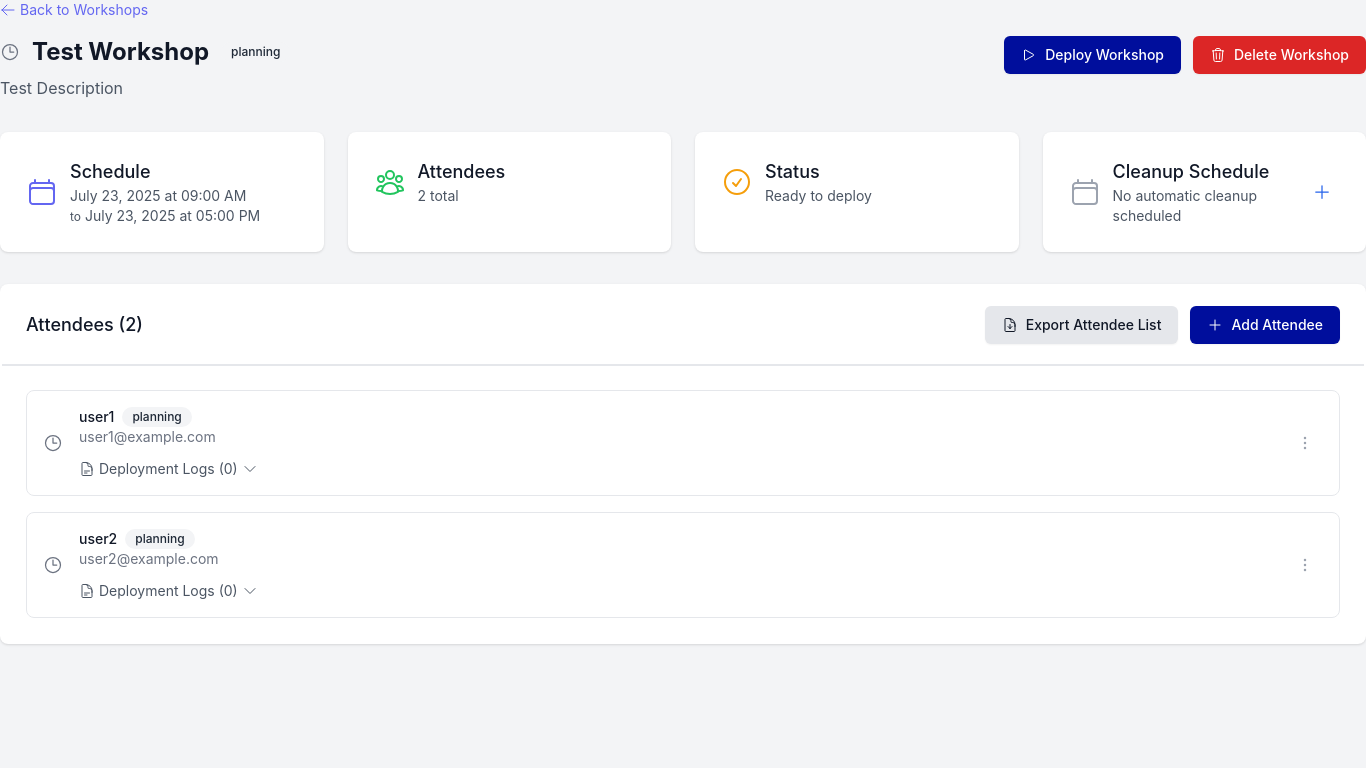
Scenario: WorkshopDetail ConfirmDialog Integration › Deploy Workshop Confirmation › should close dialog after cancelling
Expected: the heading "Test Workshop" is shown, [32,36,209,68]
Click Deploy Workshop button
Click the button "Deploy Workshop": (1093, 55) [1004,36,1181,74]
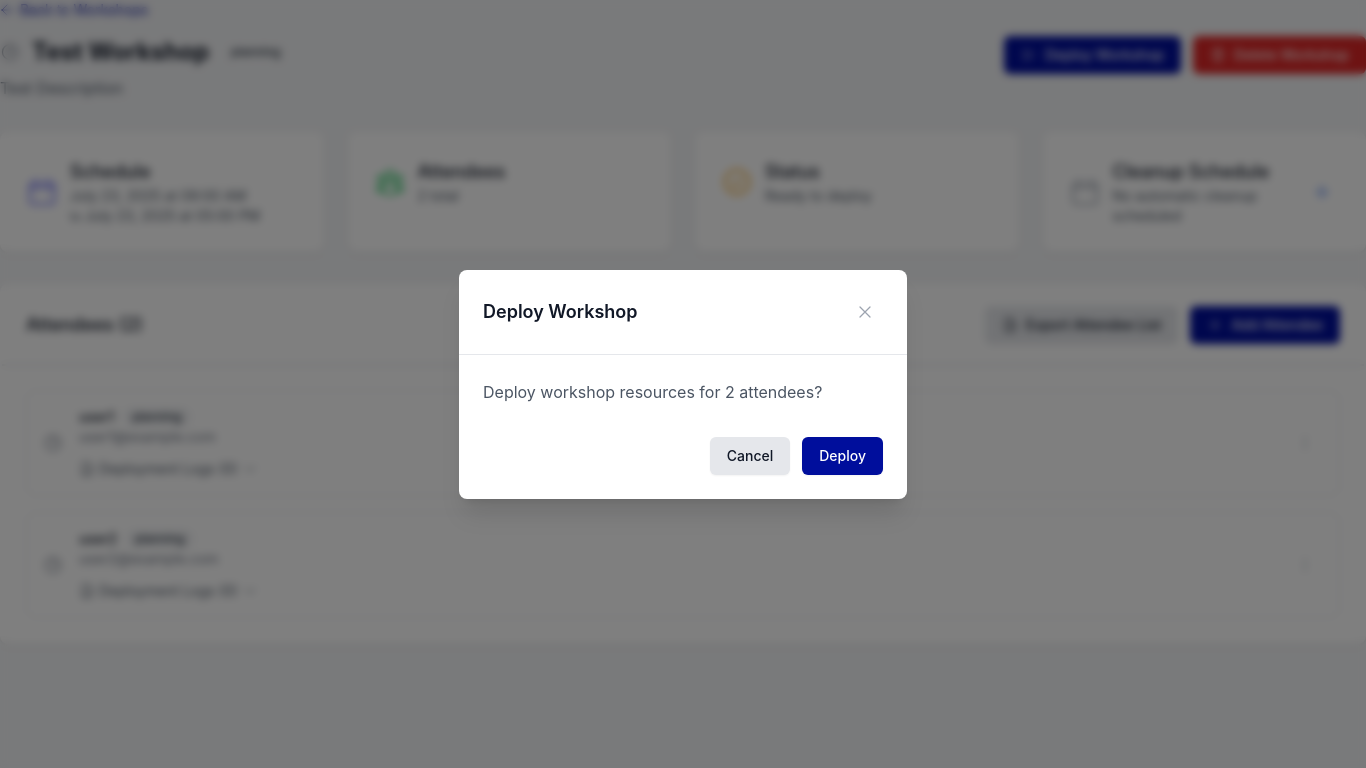
Expected: the dialog is shown, [459,270,907,498]
Click the button "Cancel": (750, 456) [710,436,790,474]
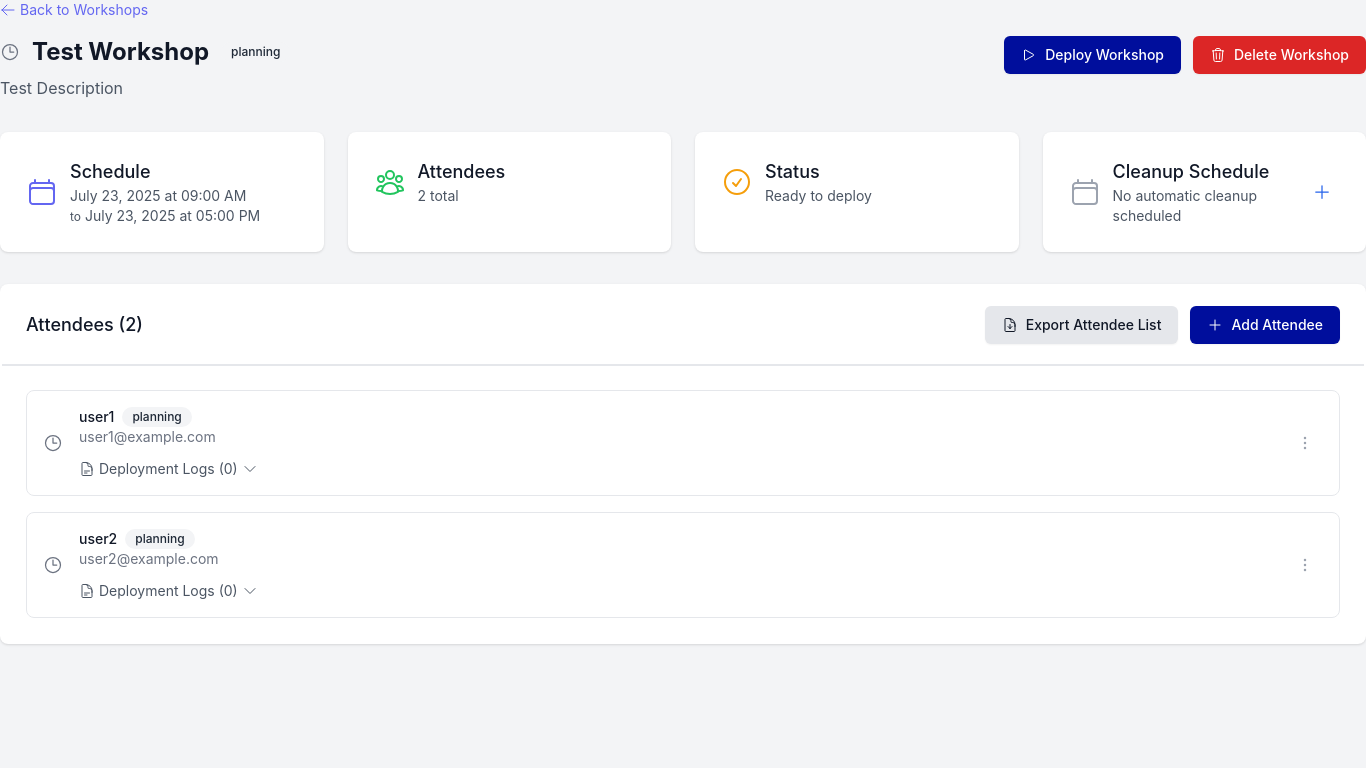
Expected: the dialog is gone
